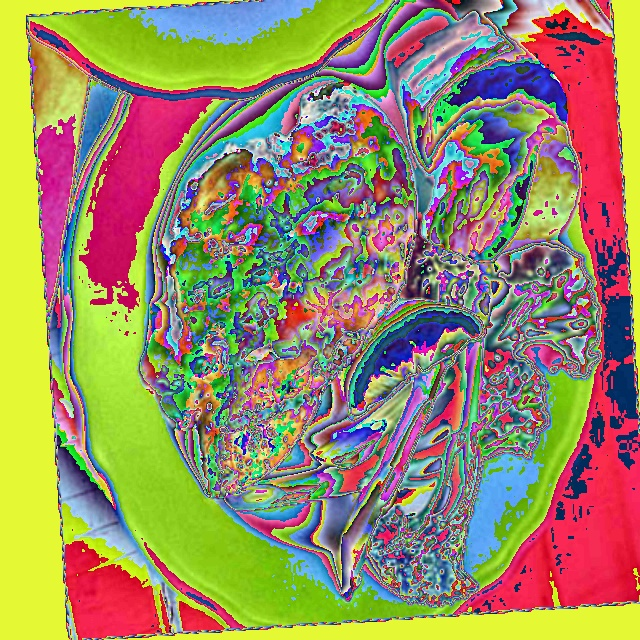background: (167, 10, 603, 607)
